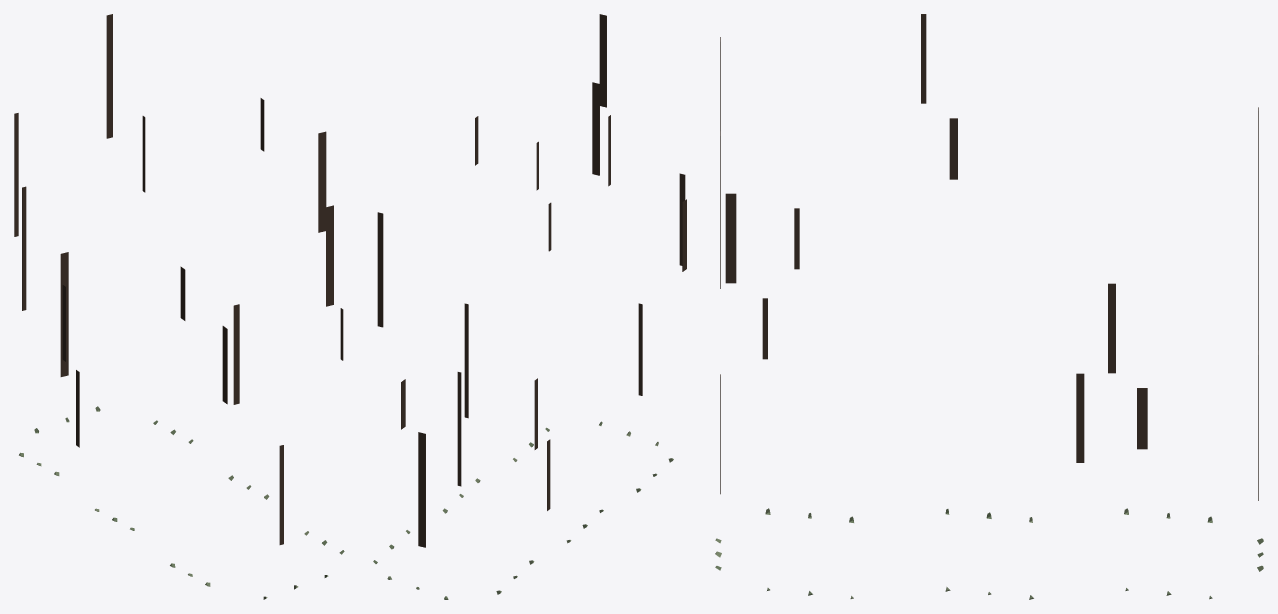
The model's file is flume_bent_32_detail2.glb.
The picture shows the model from 3 angles, left to right: view 1: azimuth 30°, elevation 25°; view 2: azimuth 150°, elevation 25°; view 3: azimuth 270°, elevation 25°; orthographic projection. The views are drawn at different scales.
Parts seen in each view (by area): view 1: flume_bent_32_detail2_mesh; view 2: flume_bent_32_detail2_mesh; view 3: flume_bent_32_detail2_mesh.
Boxes of the visible parts, x1,y1,x2,y2 form: flume_bent_32_detail2_mesh: (14,14,344,599); flume_bent_32_detail2_mesh: (373,14,686,599); flume_bent_32_detail2_mesh: (715,14,1263,599).
Size of the model in its own units: 4.24 by 13.24 by 12.24.
